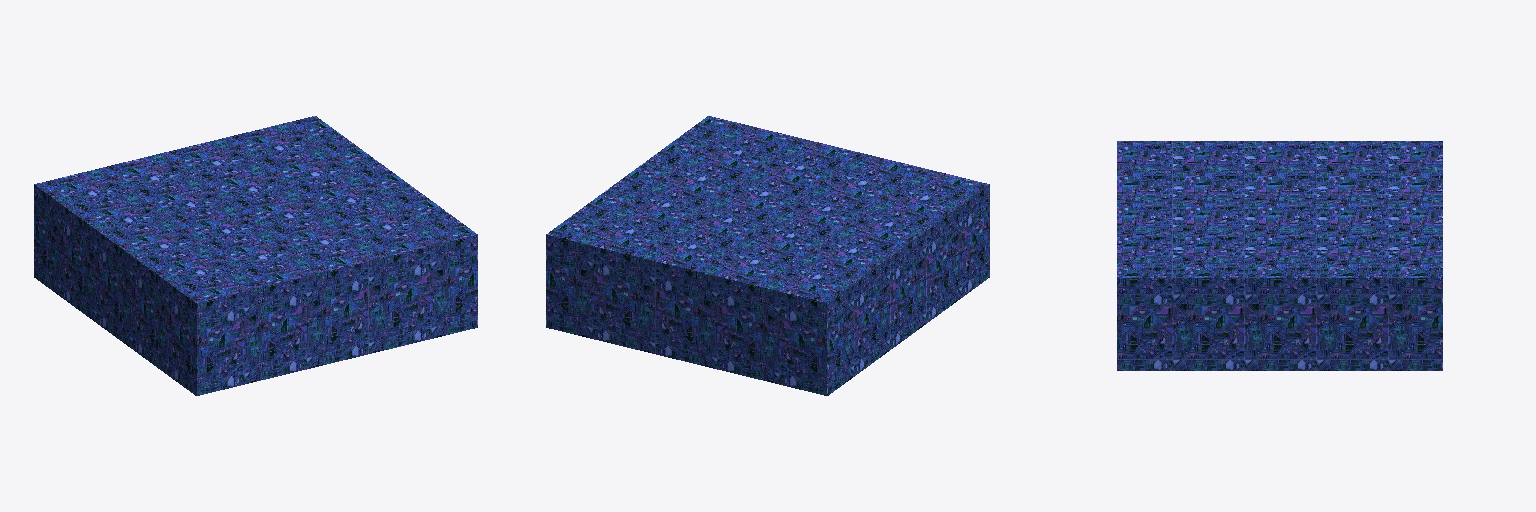
The picture shows the model from 3 angles: view 1: azimuth 30°, elevation 25°; view 2: azimuth 150°, elevation 25°; view 3: azimuth 270°, elevation 25°; orthographic projection.
Visible parts, largest first — view 1: Cube_Cube.001_Material_tron.jpg; view 2: Cube_Cube.001_Material_tron.jpg; view 3: Cube_Cube.001_Material_tron.jpg.
Part boxes in pixels (x1,y1,x2,y2): Cube_Cube.001_Material_tron.jpg: (34, 116, 477, 395); Cube_Cube.001_Material_tron.jpg: (546, 116, 989, 395); Cube_Cube.001_Material_tron.jpg: (1117, 141, 1442, 370).
Bounding box in the file's own units: 57 × 18 × 57.
2 materials, 2 textured.